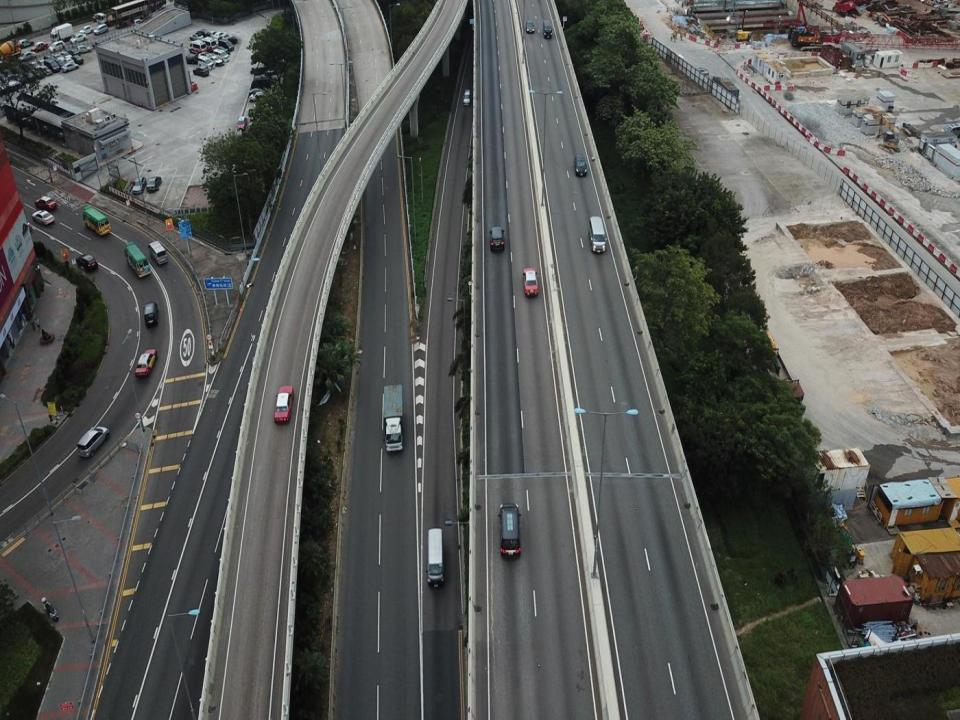bus: (111, 0, 169, 30), (124, 241, 151, 282), (82, 206, 113, 236)
car: (497, 500, 523, 564), (76, 425, 110, 459), (272, 384, 296, 423), (134, 348, 158, 378), (520, 265, 540, 297), (143, 300, 159, 329), (31, 209, 56, 226), (34, 195, 57, 213), (489, 227, 506, 251), (76, 253, 97, 271), (574, 153, 588, 178), (198, 55, 216, 71), (133, 175, 147, 195), (249, 93, 271, 105), (146, 176, 162, 192), (212, 48, 229, 63), (189, 40, 207, 54), (30, 41, 48, 55), (93, 22, 110, 36), (17, 49, 35, 62), (43, 59, 59, 73), (524, 18, 537, 35), (17, 38, 34, 51), (236, 115, 248, 133), (199, 38, 217, 50), (61, 61, 79, 73), (220, 38, 235, 52), (49, 40, 65, 53), (71, 32, 87, 45), (79, 25, 94, 38), (206, 55, 222, 67), (193, 66, 209, 77), (212, 44, 228, 55), (196, 29, 212, 40), (247, 87, 266, 96), (38, 64, 52, 76), (70, 54, 84, 65), (60, 56, 75, 66), (129, 18, 144, 28), (463, 87, 470, 108), (53, 57, 66, 68), (189, 32, 203, 41), (214, 31, 226, 39)
truck: (381, 381, 408, 454), (0, 40, 22, 65), (50, 21, 73, 44), (96, 12, 125, 24)
van: (426, 526, 446, 590), (589, 215, 608, 255), (149, 241, 170, 265), (250, 74, 278, 89), (542, 20, 554, 40)
